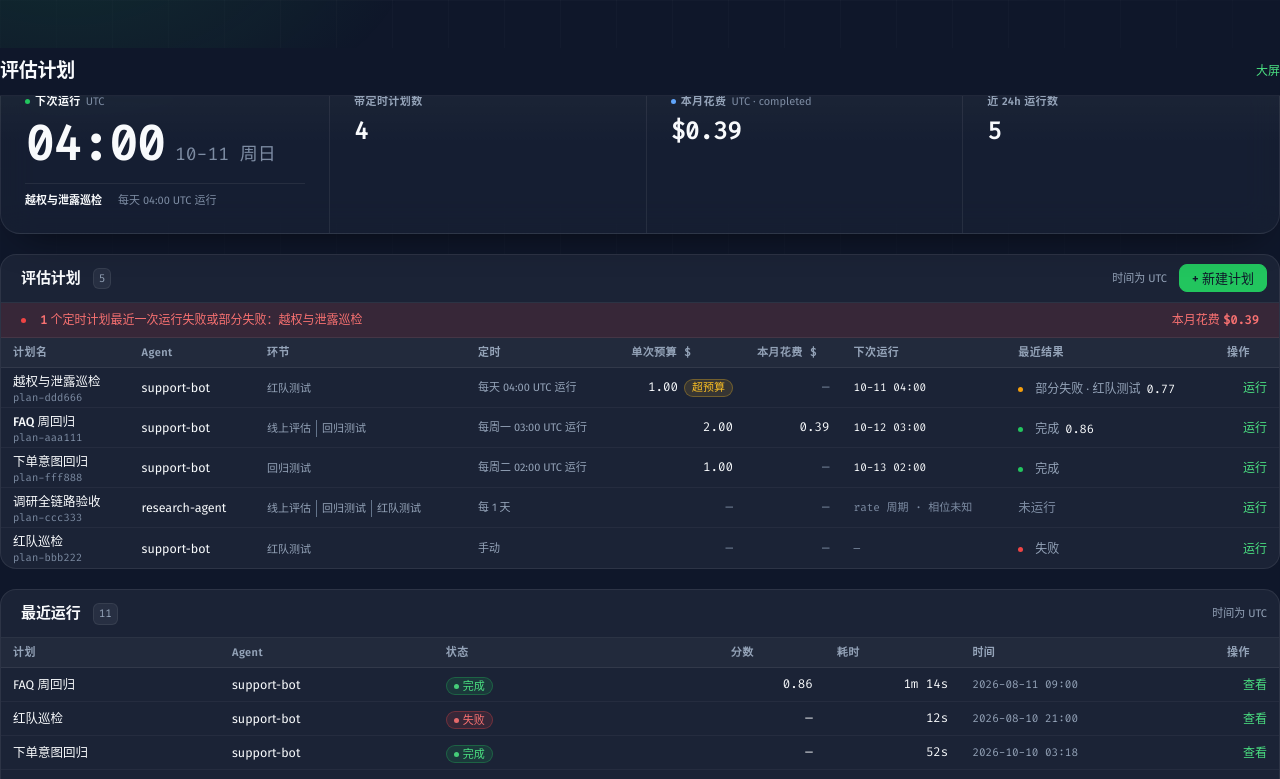
Test: 缺陷 1：后台 run 的可见性 › fetch 异常必须可见（不再被 .catch(()=>{}) 吞掉）
The width and height of the screenshot is (1280, 779).
Click the button "运行" in the row of "plan-aaa111" at (1255, 429), box [1243,420,1267,437]
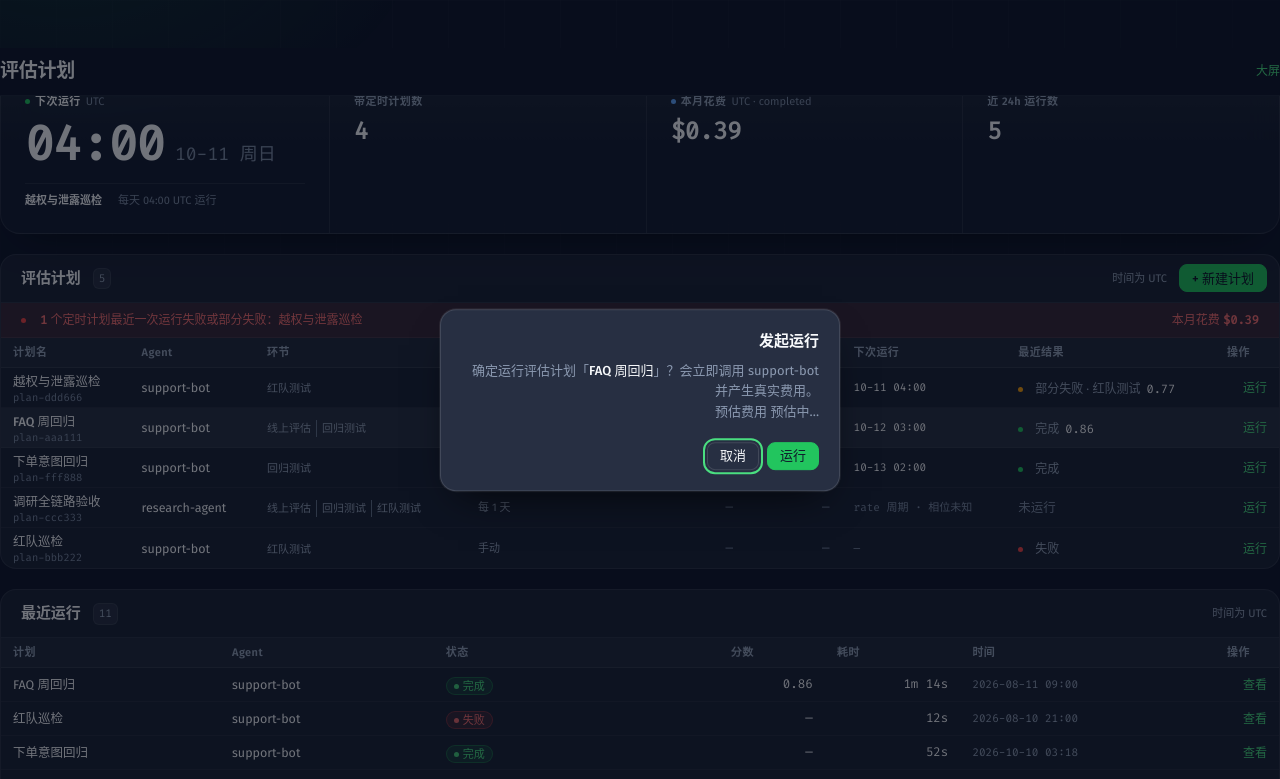
Click the button with test id "confirm-card-ok" at (793, 456), box [767,442,819,470]
(page scrolled)
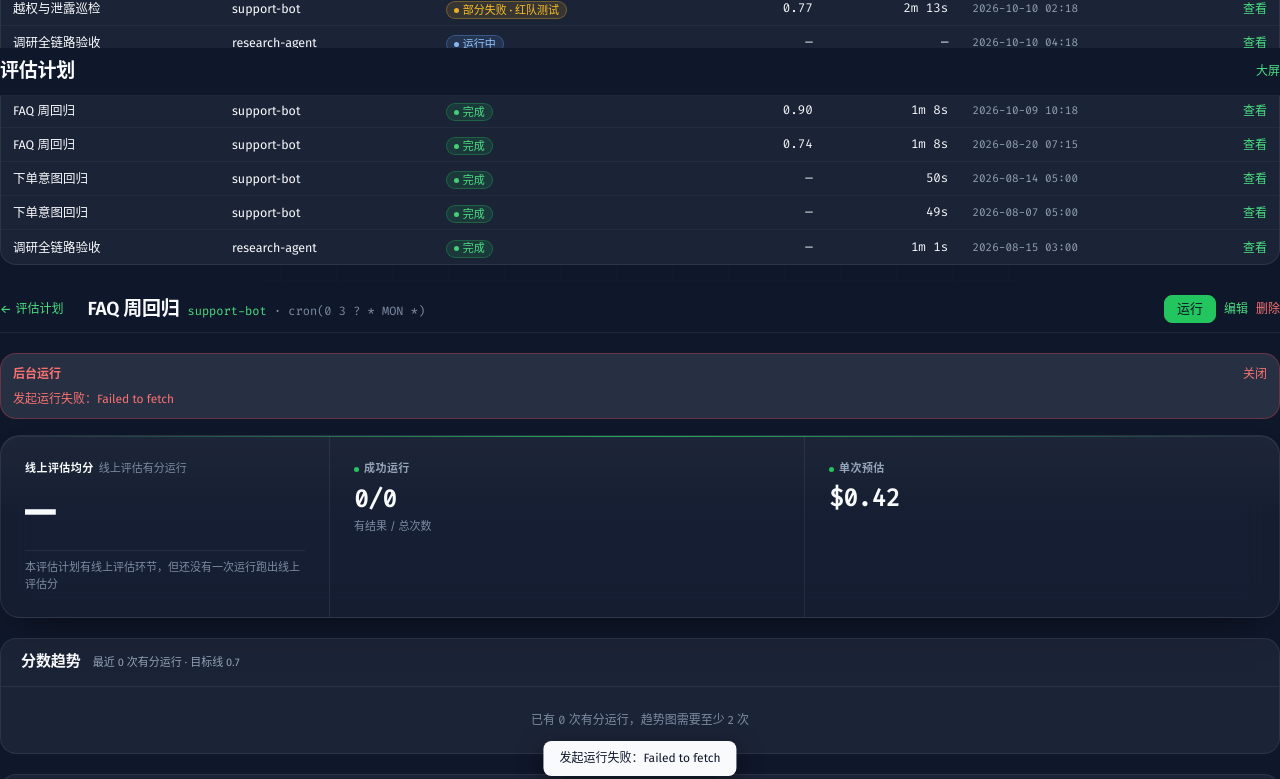
Expected: the message with test id "plan-run-background-error" shows "Failed to fetch", [13,392,174,406]
